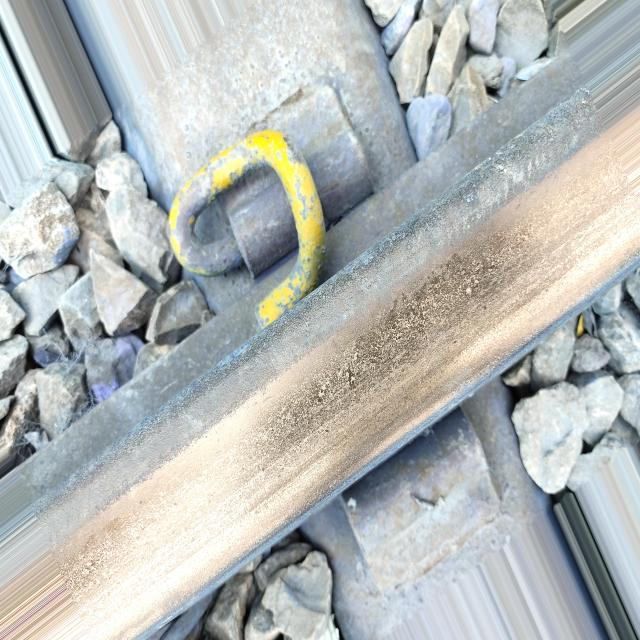Good Fasteners: (121, 0, 417, 326)
Missing Fastener: (299, 376, 553, 640)
